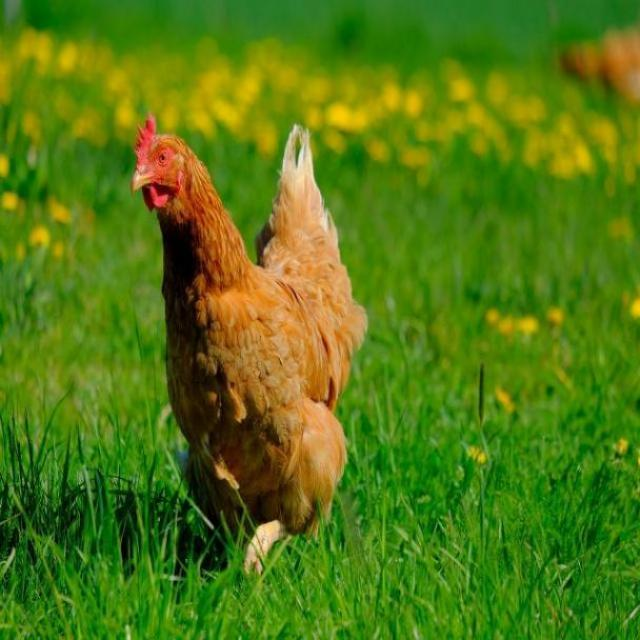Chicken: (131, 110, 368, 583)
